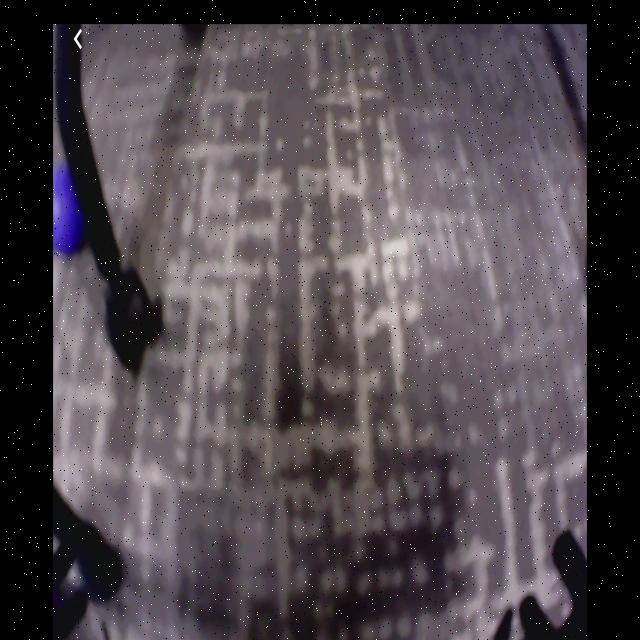ball: (54, 161, 92, 260)
